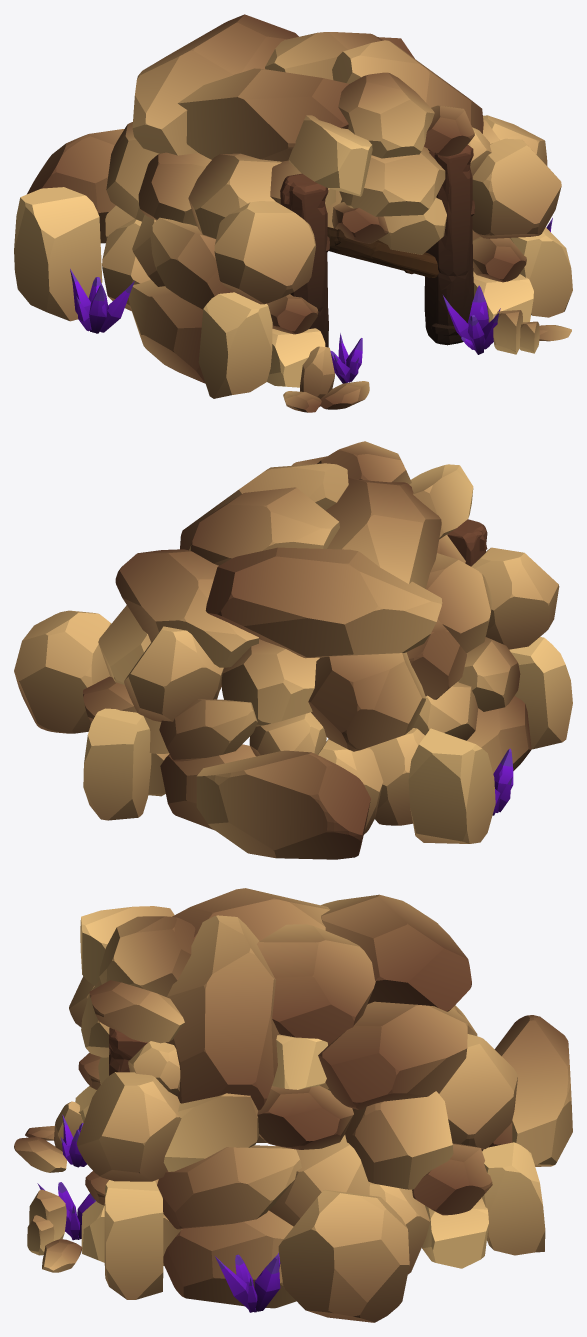
The model's file is minecave.fbx.
3 views of the same model, one above another, from view 1: azimuth 30°, elevation 25°; view 2: azimuth 150°, elevation 25°; view 3: azimuth 270°, elevation 25° (orthographic). The views are drawn at different scales.
Visible parts, largest first — view 1: MineCave; view 2: MineCave; view 3: MineCave.
Part boxes in pixels (x1,y1,x2,y2): MineCave: (14, 14, 572, 412); MineCave: (14, 441, 572, 859); MineCave: (14, 888, 572, 1322).
Bounding box in the file's own units: 670 × 378 × 612.
